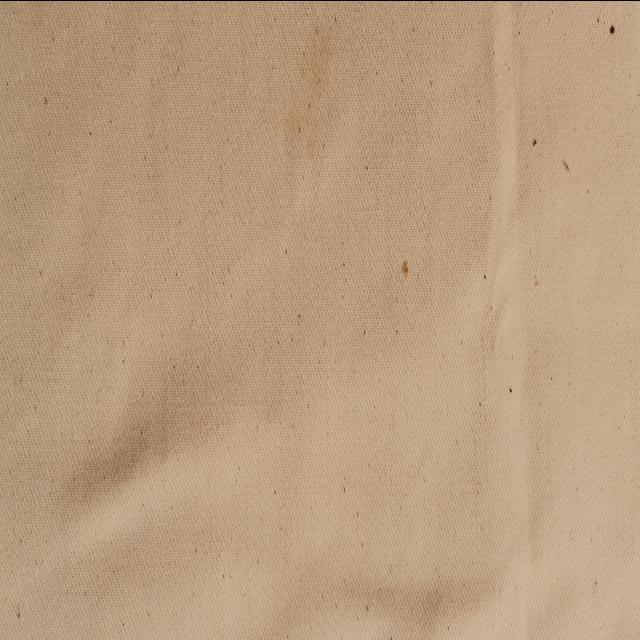taaaches: (287, 20, 336, 186), (606, 19, 620, 51), (398, 256, 411, 284)
